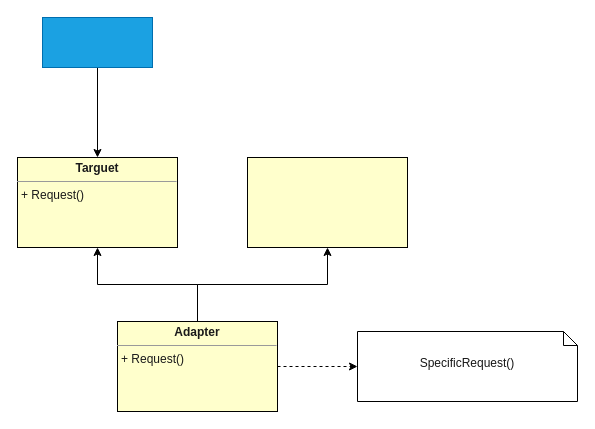
The diagram is 595 pixels wide and 429 high, and some of its shapes have lost their labels. Each missing label, with the box of its shape:
Adaptee + SpecificRequest(): (246, 156, 408, 248)
Cliente: (42, 16, 152, 68)
